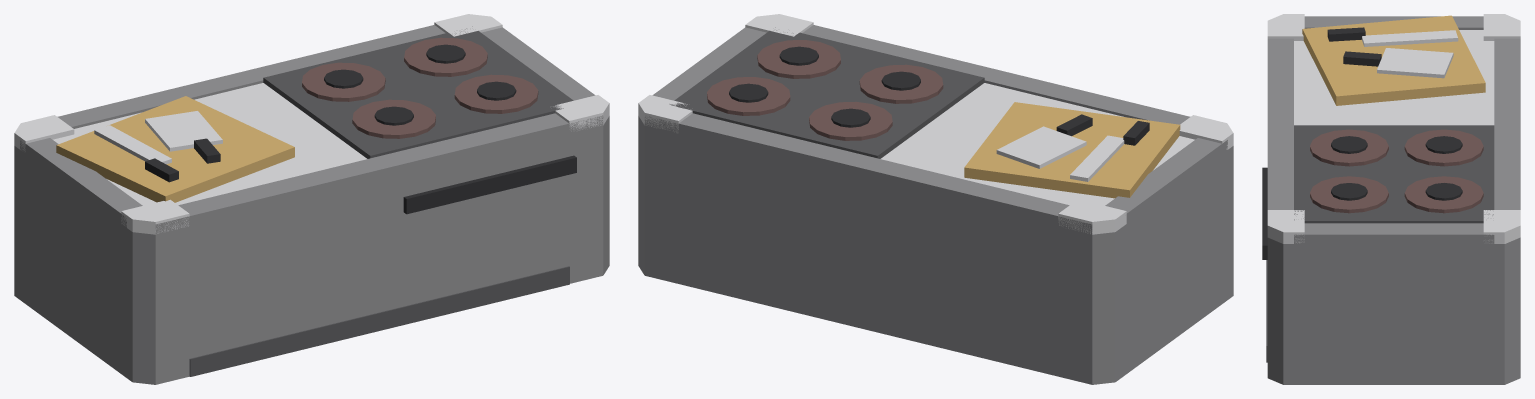
Rendered from vge_compact_stove.obj.
3 views of the same model, side by side, from view 1: azimuth 30°, elevation 25°; view 2: azimuth 150°, elevation 25°; view 3: azimuth 270°, elevation 25° (orthographic). The views are drawn at different scales.
Visible parts, largest first — view 1: vge_compact_stove_0, vge_compact_stove_16, vge_compact_stove_11, vge_compact_stove_2, vge_compact_stove_1, vge_compact_stove_10, vge_compact_stove_3, vge_compact_stove_25, vge_compact_stove_4, vge_compact_stove_23, vge_compact_stove_19, vge_compact_stove_21 (+12 smaller); view 2: vge_compact_stove_0, vge_compact_stove_16, vge_compact_stove_11, vge_compact_stove_3, vge_compact_stove_1, vge_compact_stove_2, vge_compact_stove_4, vge_compact_stove_12, vge_compact_stove_19, vge_compact_stove_17, vge_compact_stove_21, vge_compact_stove_23 (+10 smaller); view 3: vge_compact_stove_0, vge_compact_stove_16, vge_compact_stove_11, vge_compact_stove_1, vge_compact_stove_3, vge_compact_stove_2, vge_compact_stove_5, vge_compact_stove_19, vge_compact_stove_17, vge_compact_stove_21, vge_compact_stove_23, vge_compact_stove_12 (+13 smaller).
Boxes of the visible parts, box(x1,y1,x2,y2) form: vge_compact_stove_0: box(14, 116, 609, 384); vge_compact_stove_16: box(263, 26, 573, 158); vge_compact_stove_11: box(56, 96, 294, 202); vge_compact_stove_2: box(155, 113, 603, 234); vge_compact_stove_1: box(53, 83, 366, 205); vge_compact_stove_10: box(189, 266, 569, 376); vge_compact_stove_3: box(57, 25, 445, 128); vge_compact_stove_25: box(403, 155, 576, 214); vge_compact_stove_4: box(20, 138, 142, 227); vge_compact_stove_23: box(404, 37, 487, 76); vge_compact_stove_19: box(302, 62, 385, 101); vge_compact_stove_21: box(454, 74, 538, 113); vge_compact_stove_0: box(638, 116, 1233, 384); vge_compact_stove_16: box(669, 27, 984, 158); vge_compact_stove_11: box(964, 102, 1180, 198); vge_compact_stove_3: box(644, 113, 1092, 234); vge_compact_stove_1: box(881, 83, 1194, 205); vge_compact_stove_2: box(802, 25, 1190, 124); vge_compact_stove_4: box(1105, 138, 1227, 223); vge_compact_stove_12: box(996, 126, 1086, 168); vge_compact_stove_19: box(809, 101, 892, 140); vge_compact_stove_17: box(859, 64, 943, 103); vge_compact_stove_21: box(757, 40, 840, 78); vge_compact_stove_23: box(707, 77, 790, 115); vge_compact_stove_0: box(1267, 237, 1520, 384); vge_compact_stove_16: box(1294, 125, 1494, 223); vge_compact_stove_11: box(1302, 15, 1485, 105); vge_compact_stove_1: box(1294, 30, 1494, 125); vge_compact_stove_3: box(1494, 38, 1520, 209); vge_compact_stove_2: box(1267, 38, 1293, 209); vge_compact_stove_5: box(1294, 223, 1494, 243); vge_compact_stove_19: box(1404, 129, 1483, 166); vge_compact_stove_17: box(1310, 129, 1388, 166); vge_compact_stove_21: box(1310, 176, 1388, 213); vge_compact_stove_23: box(1404, 176, 1483, 213); vge_compact_stove_12: box(1377, 48, 1453, 78).
Bounding box in the file's own units: 1.96 × 0.69 × 0.98.
